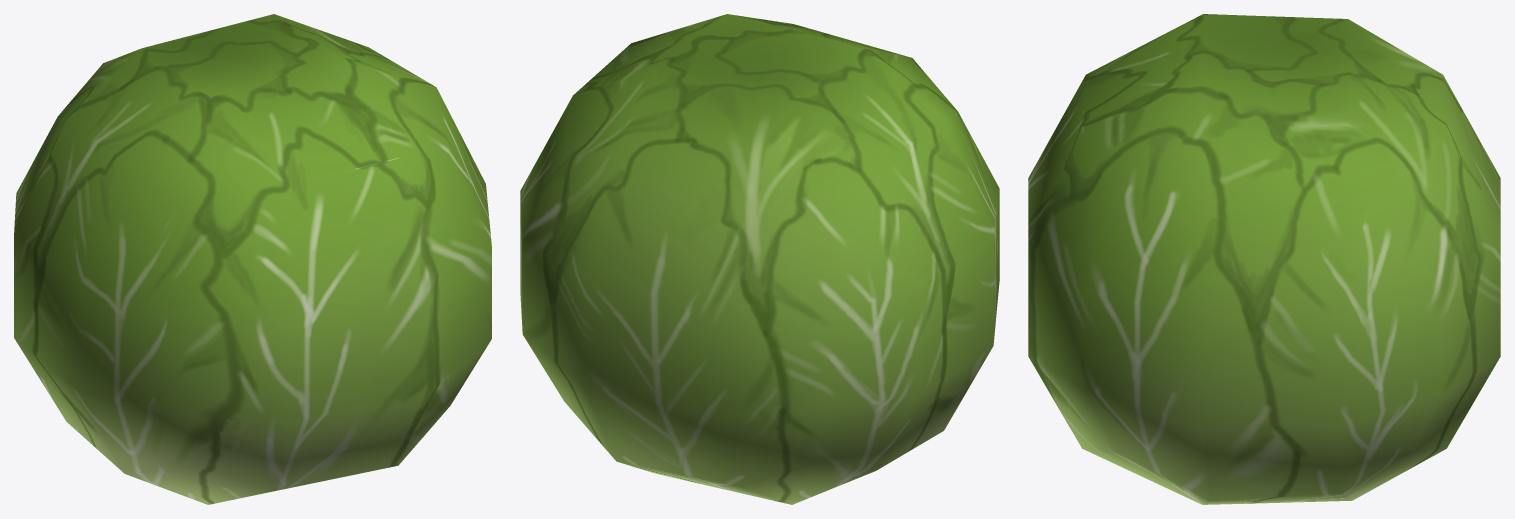
The model's file is lettuce.fbx.
3 views of the same model, side by side, from view 1: azimuth 30°, elevation 25°; view 2: azimuth 150°, elevation 25°; view 3: azimuth 270°, elevation 25° (orthographic). The views are drawn at different scales.
Visible parts, largest first — view 1: lettuce; view 2: lettuce; view 3: lettuce.
Boxes of the visible parts, x1,y1,x2,y2 form: lettuce: (14, 14, 491, 504); lettuce: (520, 14, 999, 504); lettuce: (1028, 14, 1500, 504).
Size of the model in its own units: 34.04 by 32.86 by 33.37.
1 material, 1 textured.
